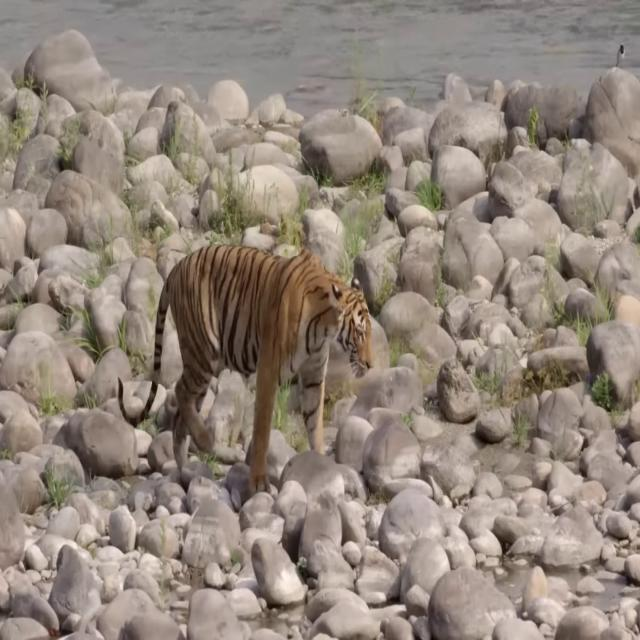tiger: (118, 244, 374, 494)
